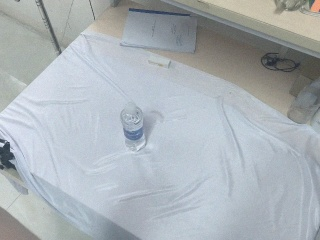bottle: (287, 76, 320, 125), (120, 101, 146, 153)
